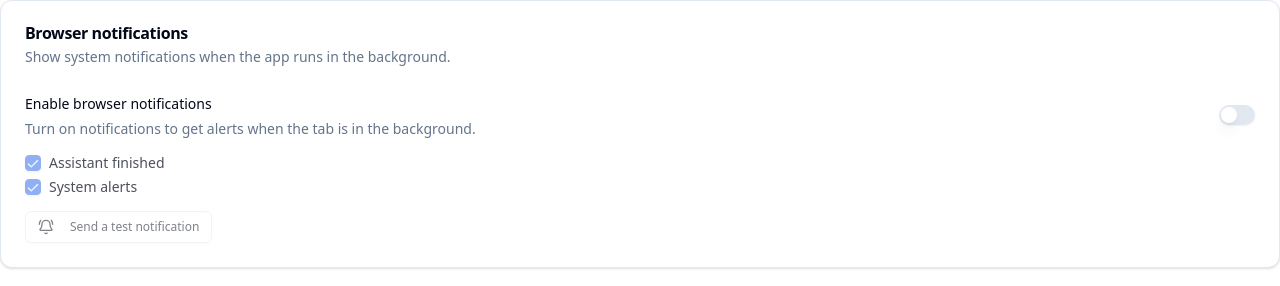
Scenario: BrowserNotificationsCard › stays disabled when permission is denied
Click the switch. click: (1237, 115)
box: x1=1219 y1=105 x2=1255 y2=125
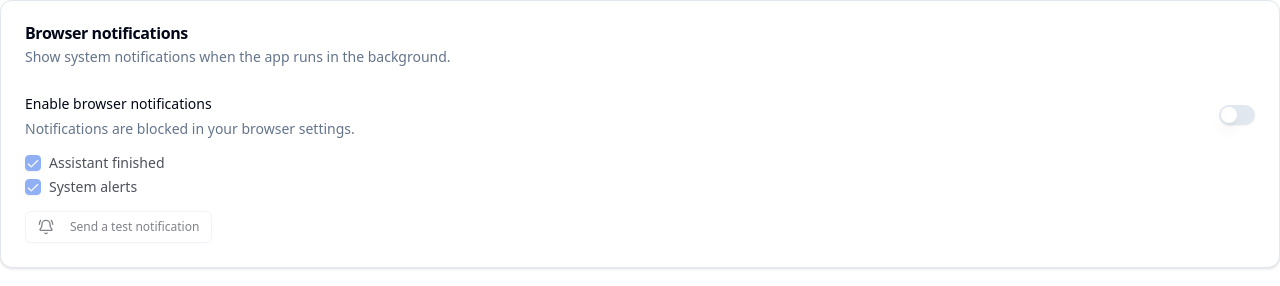
Expected: the text "Notifications are blocked in your browser settings." is shown, x1=25 y1=119 x2=355 y2=139
